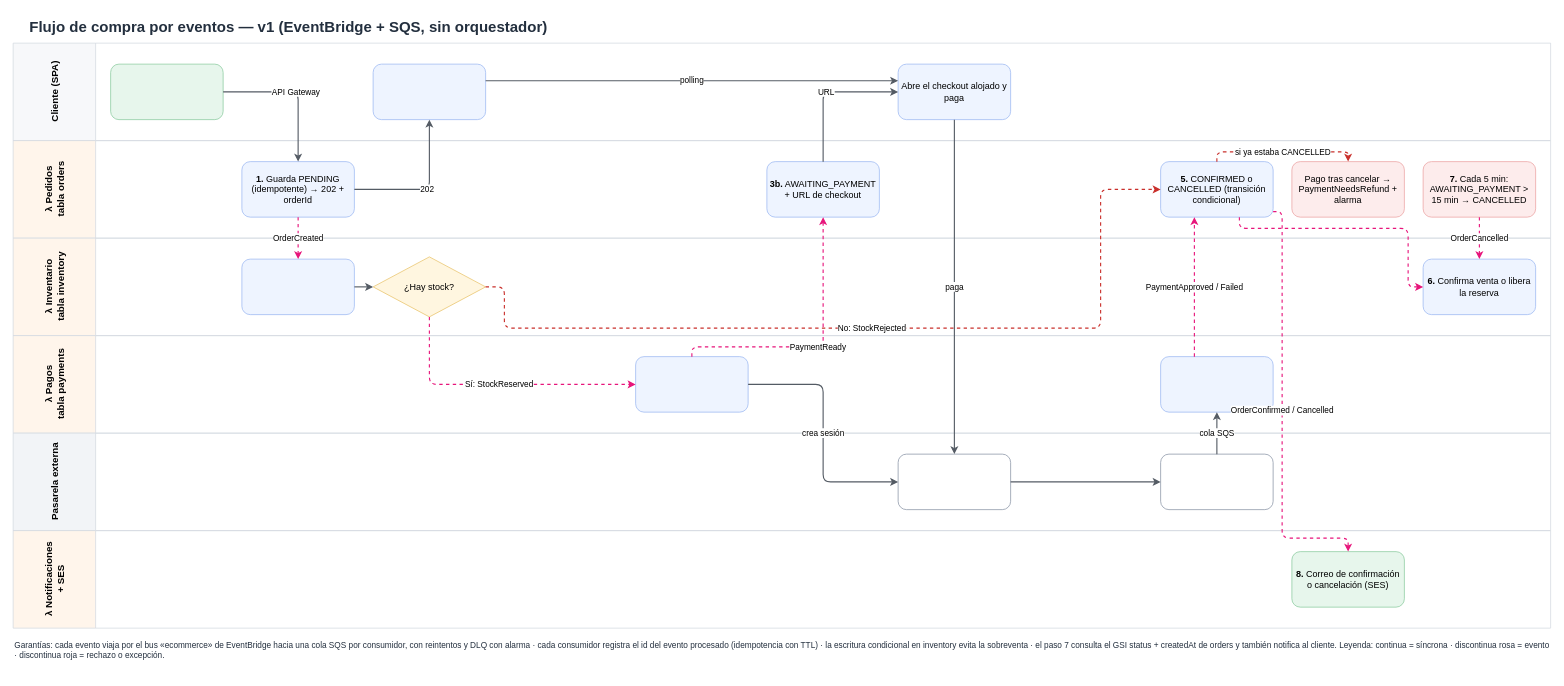
This 1564x686 diagram has some shape labels left out. Here are the shapes that lost their labels. From the top down, the centre of each, then its label:
(x=166, y=91): Confirma carrito POST /orders
(x=429, y=91): Consulta el estado GET /orders/{id}
(x=297, y=286): 2. Reserva stock (escritura condicional)
(x=691, y=384): 3. Prepara checkout (secreto en Secrets Manager)
(x=1216, y=384): 4. Webhook: verifica firma + idempotencia
(x=954, y=481): Checkout alojado (la tarjeta nunca toca JFC)
(x=1216, y=481): Webhook firmado → CloudFront → API GW → SQS
